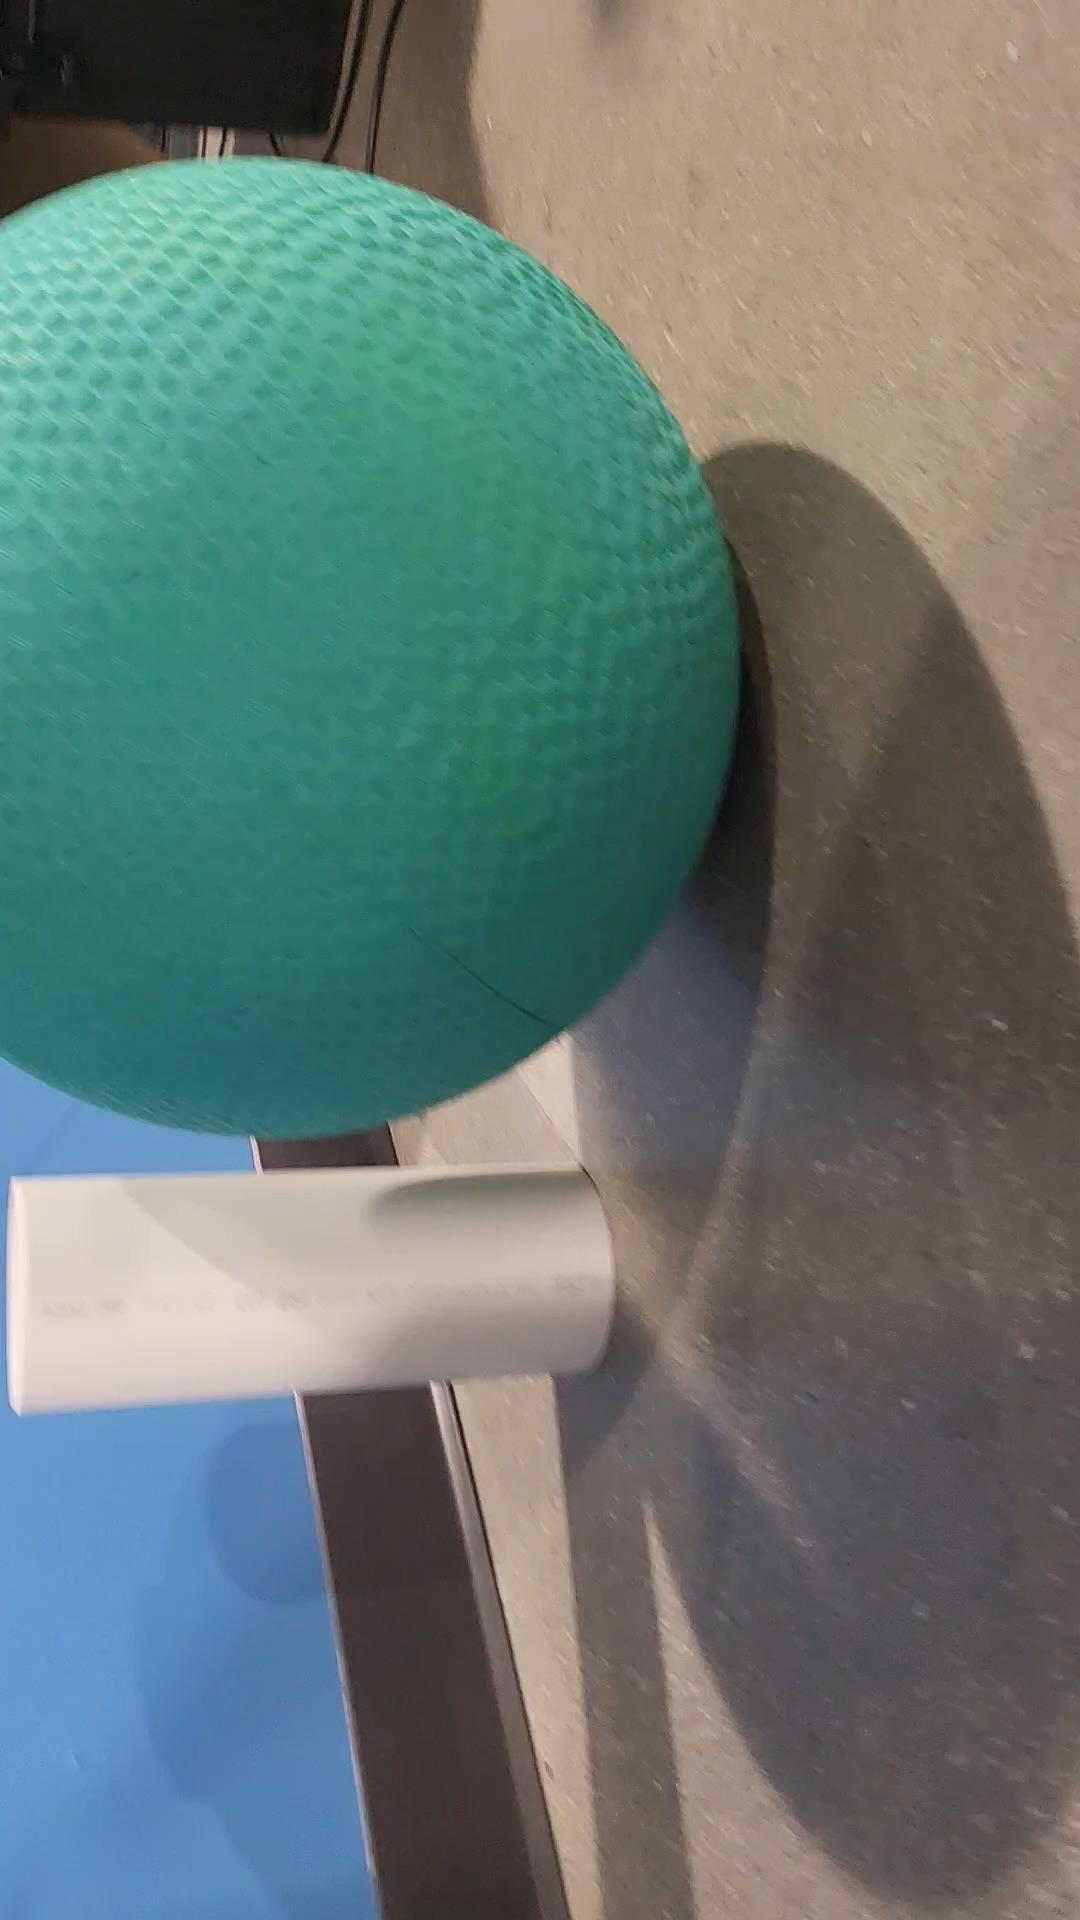algae: (0, 162, 740, 1138)
coral: (5, 1163, 612, 1418)
